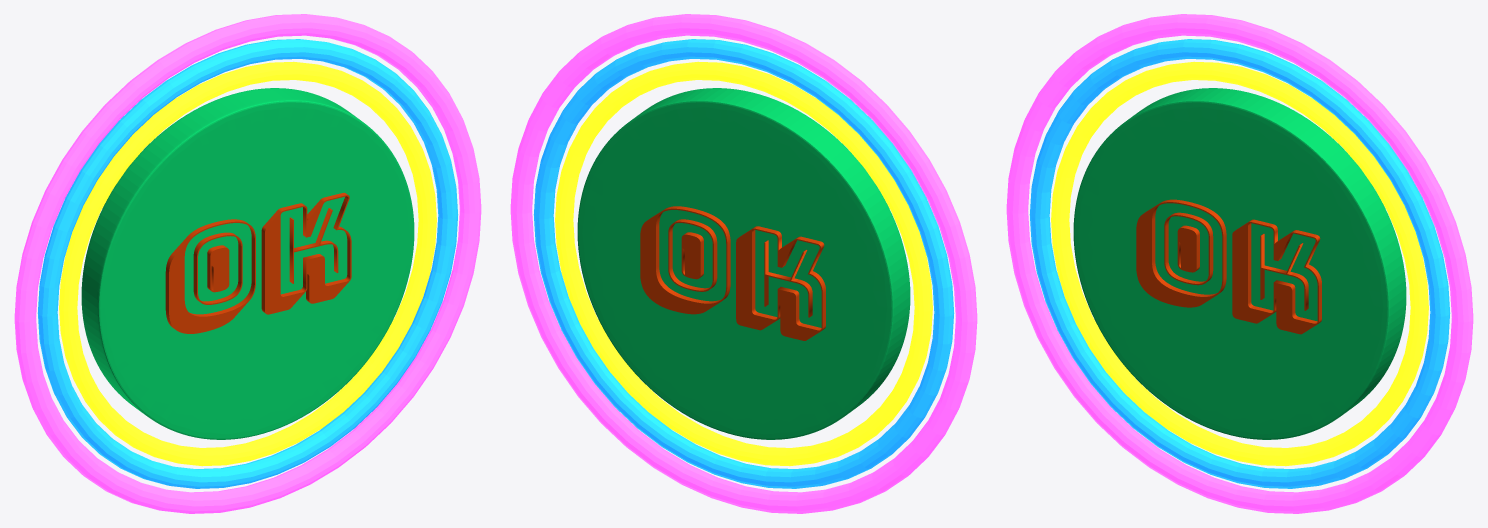
Rendered from Coin-005.glb.
The picture shows the model from 3 angles, left to right: view 1: azimuth 30°, elevation 25°; view 2: azimuth 150°, elevation 25°; view 3: azimuth 330°, elevation 25°; orthographic projection.
Visible parts, largest first — view 1: Logo; view 2: Logo; view 3: Logo.
Part boxes in pixels (box(x1,y1,x2,y2)): Logo: box(14, 14, 481, 513); Logo: box(510, 14, 977, 513); Logo: box(1006, 14, 1473, 513).
Bounding box in the file's own units: 2.92 × 2.92 × 0.2703.
